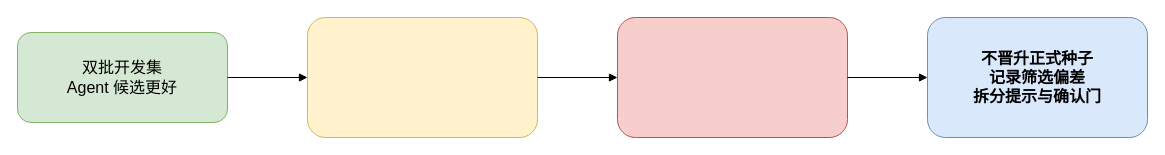
This 1165x155 diagram has some shape labels left out. The centre of each missing label's shape, as x and y in pixels:
"90 对诊断 +0.0479 个百分点 用于挑选确认对象" goes at [422,77].
"全新 300 对确认 +0.0010 个百分点 p = 0.694" goes at [732,77].
